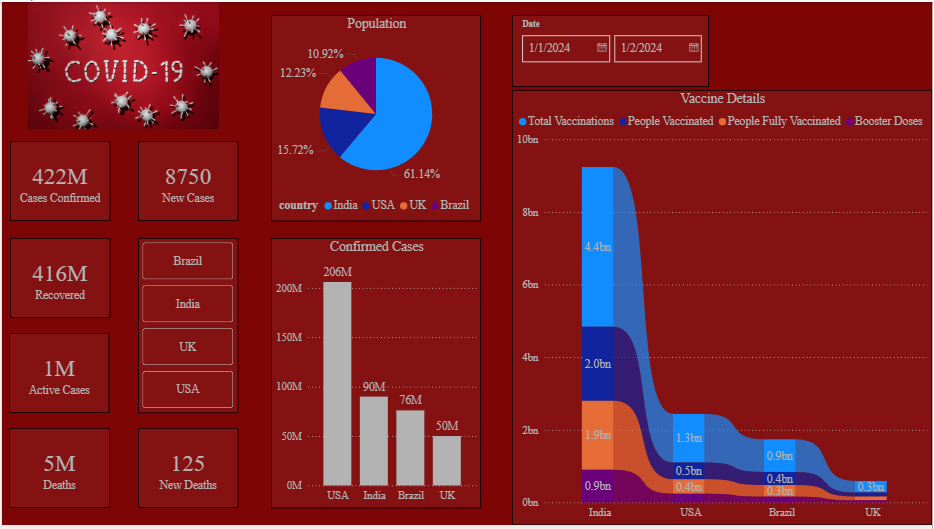

The dashboard page shown, as its layout file describes it:
{"tool":"powerbi","page":{"name":"Page 1","canvas":[1280,720],"ordinal":0},"visuals":[{"type":"image","box":[9.6,0,315.2,174.8],"z":0},{"type":"columnChart","title":"Confirmed Cases","fields":{"Category":["project2.country"],"Y":["Sum(project2.confirmed_cases)"]},"box":[370.2,324.8,289,371.6],"z":1000},{"type":"card","fields":{"Values":["Sum(project2.new_cases)"]},"box":[187.2,191.3,137.6,110.1],"z":2000},{"type":"card","fields":{"Values":["Sum(project2.new_deaths)"]},"box":[187.2,586.3,137.6,110.1],"z":3000},{"type":"pieChart","title":"Population","fields":{"Category":["project2.country"],"Y":["Sum(project2.urban_population_percent)"]},"box":[370.2,17.9,289,283.5],"z":4000},{"type":"card","fields":{"Values":["Sum(project2.confirmed_cases)"]},"box":[11,191.3,137.6,110.1],"z":5000},{"type":"card","fields":{"Values":["Sum(project2.recovered)"]},"box":[11,324.8,137.6,110.1],"z":6000},{"type":"card","fields":{"Values":["Sum(project2.active_cases)"]},"box":[9.6,455.6,138,110],"z":7000},{"type":"card","fields":{"Values":["Sum(project2.deaths)"]},"box":[9.6,586.3,139,110.1],"z":8000},{"type":"advancedSlicerVisual","title":"Country","fields":{"Values":["project2.country"]},"box":[187.2,324.8,137.6,240.9],"z":9000},{"type":"ribbonChart","title":"Vaccine Details","fields":{"Y":["Sum(project2.total_vaccinations)","Sum(project2.people_vaccinated)","Sum(project2.people_fully_vaccinated)","Sum(project2.booster_doses)"],"Category":["project2.country"]},"box":[701.9,121.1,578.1,598.7],"z":10000},{"type":"slicer","fields":{"Values":["project2.date"]},"box":[701.9,17.9,271.1,99.1],"z":10001}]}

Visuals, with their boxes in screenshot pixels (x1, y1, x2, y2), scaled from the page's 1280x720 canvas onto the 934x529 screenshot:
image: bbox(7, 0, 237, 128)
"Confirmed Cases" columnChart: bbox(270, 239, 481, 512)
card - Sum(project2.new_cases): bbox(137, 141, 237, 221)
card - Sum(project2.new_deaths): bbox(137, 431, 237, 512)
"Population" pieChart: bbox(270, 13, 481, 221)
card - Sum(project2.confirmed_cases): bbox(8, 141, 108, 221)
card - Sum(project2.recovered): bbox(8, 239, 108, 320)
card - Sum(project2.active_cases): bbox(7, 335, 108, 416)
card - Sum(project2.deaths): bbox(7, 431, 108, 512)
"Country" advancedSlicerVisual: bbox(137, 239, 237, 416)
"Vaccine Details" ribbonChart: bbox(512, 89, 933, 528)
slicer - project2.date: bbox(512, 13, 710, 86)
